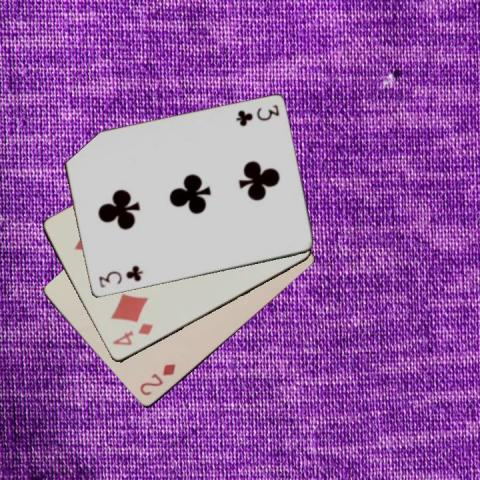2d: (136, 361, 177, 398)
3c: (95, 263, 144, 289), (233, 102, 280, 127)
4d: (109, 321, 155, 347)
